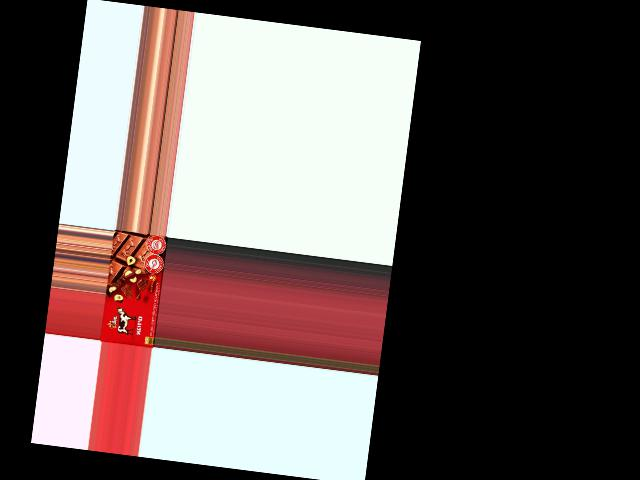chocolate: (100, 230, 166, 348)
